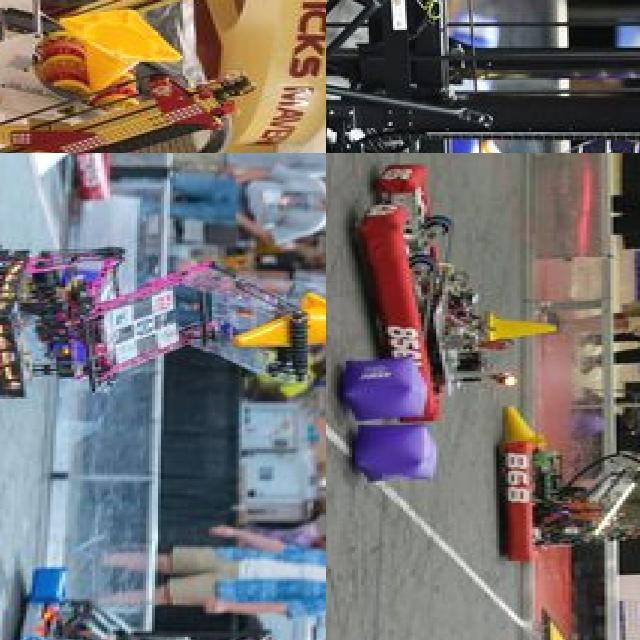FRC-Robots: (0, 253, 326, 463), (338, 153, 548, 420), (326, 0, 640, 153), (0, 0, 277, 153), (502, 404, 640, 584)
